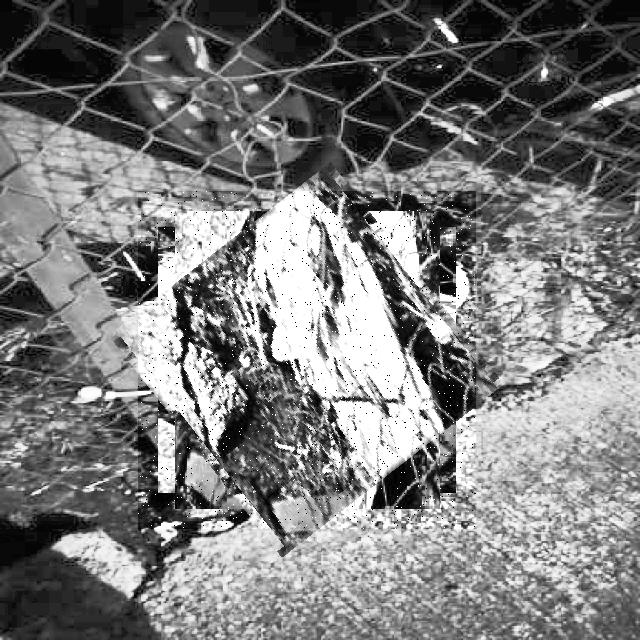anomaly-fence: (138, 191, 476, 529)
